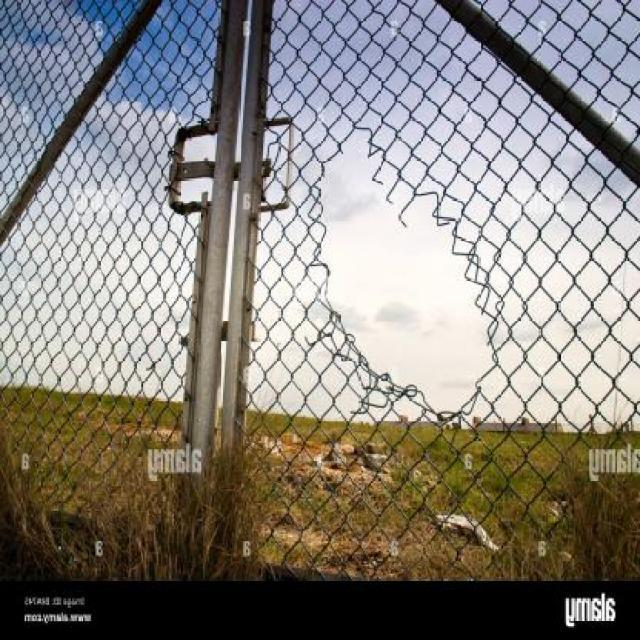fence line: (293, 105, 515, 467)
